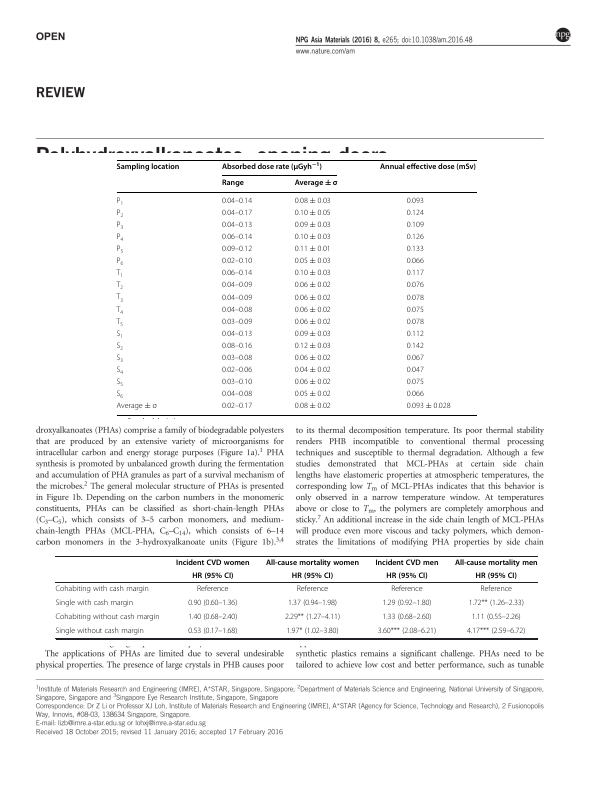borderless: (115, 158, 477, 415), (54, 554, 537, 638)
cell: (221, 161, 323, 172), (54, 612, 160, 622), (379, 162, 477, 172), (54, 584, 150, 594), (55, 626, 145, 636), (265, 558, 360, 567), (54, 598, 134, 608), (454, 558, 538, 567), (175, 558, 250, 567), (116, 162, 180, 172), (377, 626, 437, 636), (466, 626, 526, 636), (374, 558, 439, 567), (468, 598, 525, 608), (284, 612, 341, 622), (285, 626, 339, 636), (187, 598, 238, 608), (287, 598, 338, 608), (381, 598, 432, 608), (187, 612, 238, 622), (381, 612, 432, 622), (471, 612, 522, 622), (187, 626, 238, 636), (294, 178, 338, 188), (191, 571, 234, 581), (291, 571, 334, 581), (385, 571, 428, 581), (475, 571, 518, 581), (406, 402, 452, 411), (115, 402, 158, 411), (294, 196, 332, 206), (294, 208, 332, 218), (294, 317, 332, 327), (294, 329, 332, 339), (294, 221, 332, 230), (294, 233, 332, 242), (294, 245, 332, 254), (294, 257, 332, 266), (294, 269, 332, 278), (294, 281, 332, 290), (294, 293, 332, 302), (294, 305, 332, 314), (294, 342, 332, 351), (294, 354, 332, 363), (294, 366, 332, 375), (294, 378, 332, 387), (294, 390, 332, 399), (294, 402, 332, 411), (390, 584, 424, 594), (479, 584, 513, 594), (196, 584, 229, 594), (296, 584, 329, 594), (221, 196, 253, 206), (221, 208, 253, 218), (221, 317, 253, 327), (221, 329, 253, 339), (221, 221, 253, 230), (221, 233, 253, 242), (221, 245, 253, 254), (221, 257, 253, 266), (221, 269, 253, 278), (221, 281, 253, 290), (221, 293, 253, 302), (221, 305, 253, 314), (221, 342, 253, 351), (221, 354, 253, 363), (221, 366, 253, 375), (221, 378, 253, 387), (221, 390, 253, 399), (221, 402, 253, 411), (221, 178, 245, 188), (406, 196, 425, 206), (406, 208, 425, 218), (406, 317, 425, 327), (406, 329, 425, 339), (406, 221, 425, 230), (406, 233, 425, 242), (406, 245, 425, 254), (406, 257, 425, 266), (406, 269, 425, 278), (406, 281, 425, 290), (406, 293, 425, 302), (406, 305, 425, 314), (406, 342, 425, 351), (406, 354, 425, 363), (406, 366, 425, 375), (406, 378, 425, 387), (406, 390, 425, 399), (115, 269, 124, 280), (115, 281, 124, 292), (115, 293, 124, 304), (115, 305, 124, 316), (115, 317, 124, 328), (115, 329, 124, 340), (115, 378, 124, 389), (115, 390, 124, 401), (115, 342, 124, 352), (115, 354, 124, 364), (115, 366, 124, 376), (116, 196, 124, 207), (116, 208, 124, 219), (116, 257, 124, 268), (116, 221, 124, 231), (116, 233, 124, 243), (116, 245, 124, 255)
